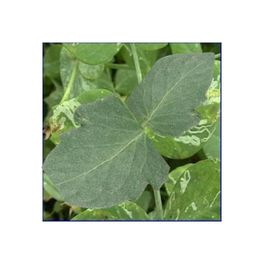liriomyza: (48, 97, 83, 136), (174, 117, 217, 148), (201, 73, 221, 108), (118, 200, 138, 219), (179, 169, 191, 194), (183, 201, 198, 213)
